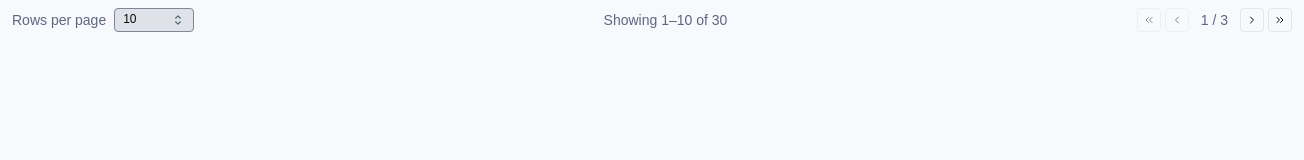
Test: DataTablePagination › jumps to the last page
Click the button named "Go to last page": (1280, 20) [1268,8,1292,32]
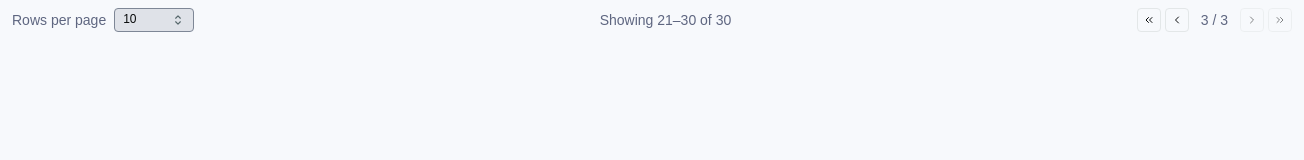
Now the text "Showing 21–30 of 30" is shown, box [600,10,731,30]
